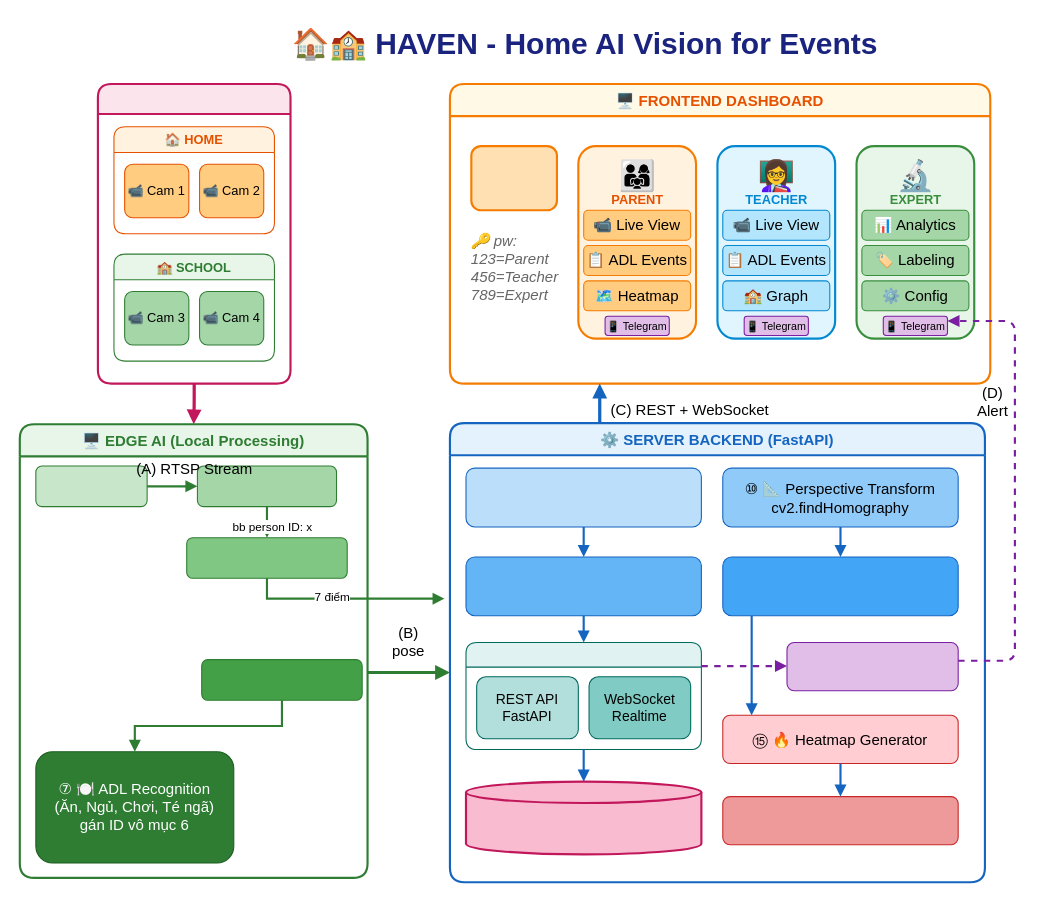
The diagram is 1042 pixels wide and 901 high, and some of its shapes have lost their labels. The shapes that lost their labels are listed below. From the top down, each one's box as (x1, y1, x2, y2) in pixels, then its label:
(470, 144, 557, 211): 🔐 Login admin + pw
(96, 82, 291, 384): 📹 VIDEO INPUT
(35, 465, 147, 507): ① 📸 RTSP Capture
(196, 465, 337, 507): ② 🎯 YOLOv8
(465, 467, 701, 527): ⑨ 🔄 Multi-Cam Tracker DeepSORT ?? + OSNet/FastReID
(186, 537, 347, 578): ③ 🦴 YOLOv8-Pose
(465, 556, 701, 616): ⑪ 🧠 ADL Analysis Pose + ST-GCN Aggregation
(722, 556, 958, 616): ⑫ 🗺️ Mapping Logic Matplotlib / Plotly liên quan multi camera
(201, 659, 362, 700): ⑥ 🧠 ST-GCN nhận dạng hành động
(786, 641, 958, 691): ⑭ 📱 Telegram Bot API
(465, 641, 701, 750): ⑬ 🌐 API & Socket
(464, 780, 702, 855): ⑰ 🗄️ PostgreSQL + MinIO
(722, 796, 958, 845): ⑯ 📍 Trajectory Path
